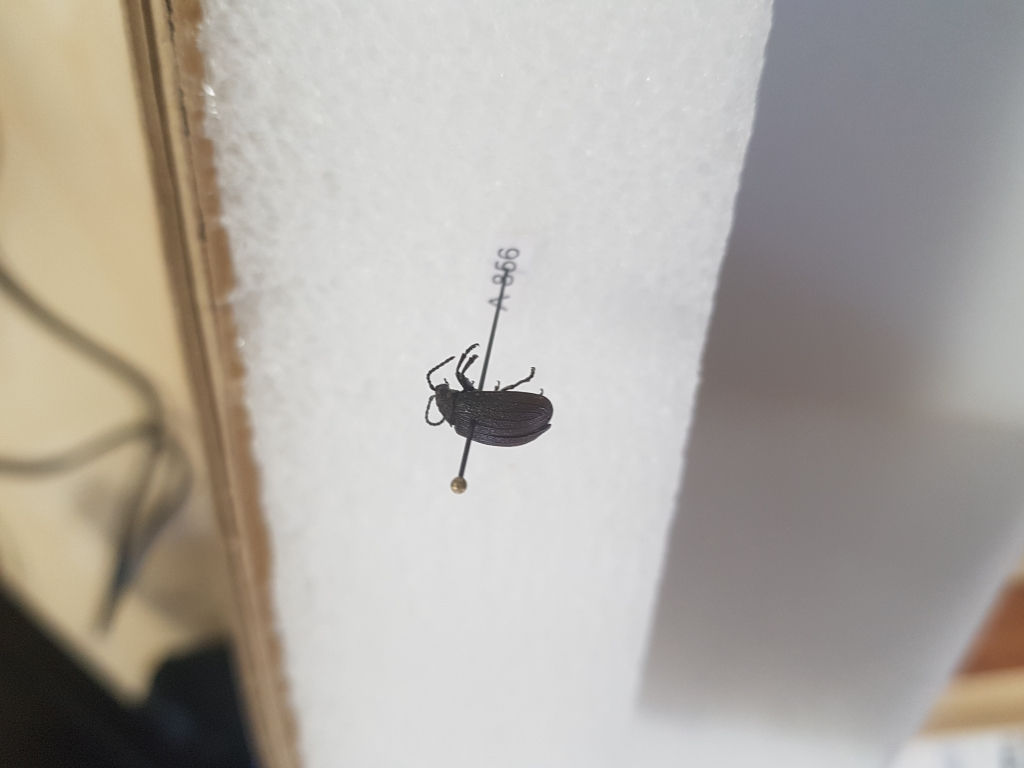Galeruca_tanaceti: (423, 343, 558, 447)
